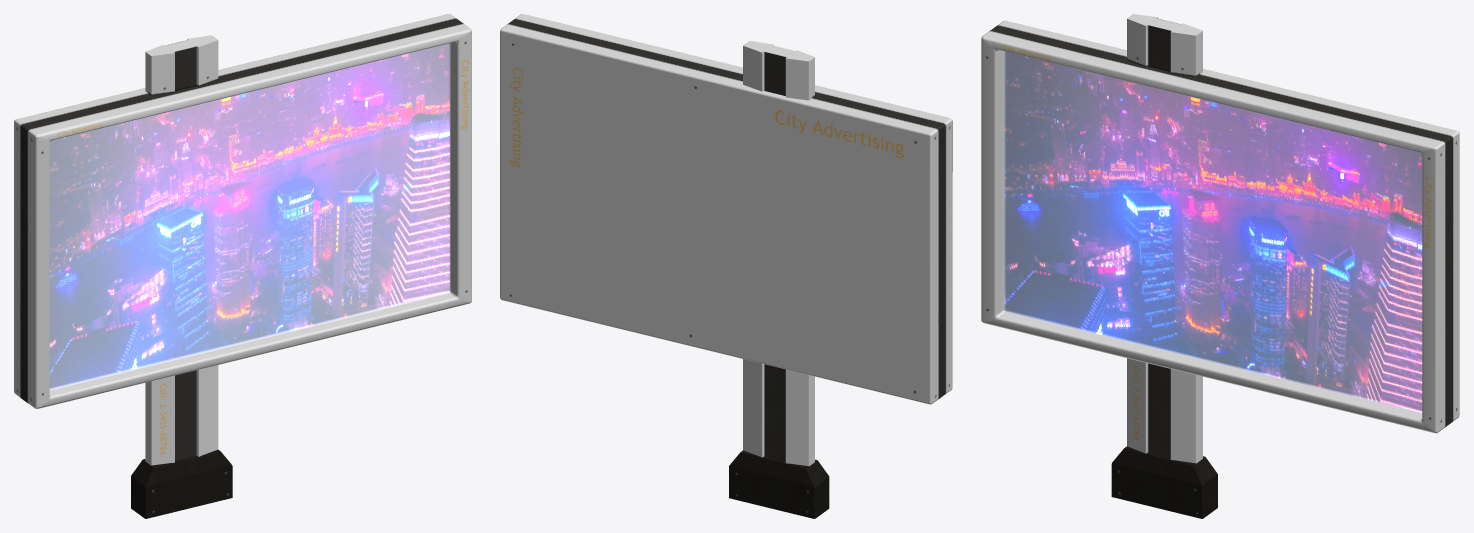
File: SM_BigPannelH.fbx
The picture shows the model from 3 angles, left to right: view 1: azimuth 30°, elevation 25°; view 2: azimuth 150°, elevation 25°; view 3: azimuth 330°, elevation 25°; orthographic projection. The views are drawn at different scales.
Parts seen in each view (by area): view 1: SM_BigPannelH_LOD0; view 2: SM_BigPannelH_LOD0; view 3: SM_BigPannelH_LOD0.
Boxes of the visible parts, <box> form: SM_BigPannelH_LOD0: <box>14,14,471,518</box>; SM_BigPannelH_LOD0: <box>500,14,952,518</box>; SM_BigPannelH_LOD0: <box>981,14,1459,518</box>.
Bounding box in the file's own units: 400 × 36.4 × 400.
2 materials, 1 textured.
